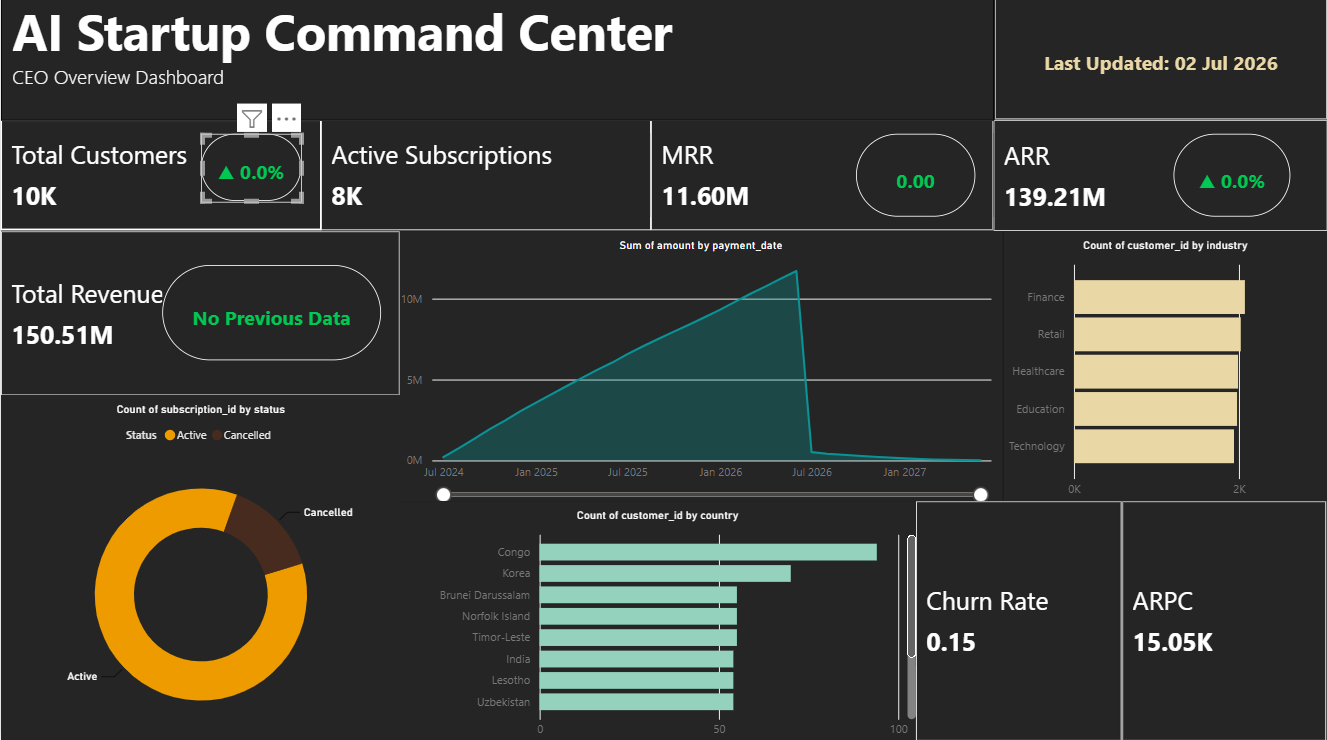

This screenshot's page, from the dashboard's own definition file:
{"tool":"powerbi","page":{"name":"Page 1","canvas":[1280,720],"ordinal":0},"visuals":[{"type":"cardVisual","fields":{"Data":["ai_startup_command_center customers.Total Customers"]},"box":[0,120.9,309.3,106.7],"z":0},{"type":"cardVisual","fields":{"Data":["ai_startup_command_center campaign_performance.Active Subscriptions"]},"box":[309.3,120.9,318.2,106.7],"z":1000},{"type":"cardVisual","fields":{"Data":["ai_startup_command_center campaign_performance.MRR"]},"box":[627.6,120.9,330.7,106.7],"z":2000},{"type":"cardVisual","fields":{"Data":["ai_startup_command_center campaign_performance.ARR"]},"box":[958.2,120.9,307.6,106.7],"z":3000},{"type":"cardVisual","fields":{"Data":["ai_startup_command_center campaign_performance.Total Revenue"]},"box":[0,227.6,385.8,158.2],"z":4000},{"type":"lineChart","fields":{"Category":["ai_startup_command_center revenue.payment_date.Variation.Date Hierarchy.Year"],"Y":["Sum(ai_startup_command_center revenue.amount)"]},"box":[385.4,228.2,581.6,260.2],"z":5000},{"type":"donutChart","fields":{"Category":["ai_startup_command_center subscriptions.status"],"Y":["CountNonNull(ai_startup_command_center subscriptions.subscription_id)"]},"box":[0,385.8,385.8,334.2],"z":6000},{"type":"barChart","fields":{"Category":["ai_startup_command_center customers.country"],"Y":["CountNonNull(ai_startup_command_center customers.customer_id)"]},"box":[385.4,488.3,498.1,232.3],"z":7000},{"type":"barChart","fields":{"Category":["ai_startup_command_center customers.industry"],"Y":["CountNonNull(ai_startup_command_center customers.customer_id)"]},"box":[967,228.2,292.2,260.2],"z":8000},{"type":"cardVisual","fields":{"Data":["ai_startup_command_center campaign_performance.Churn Rate"]},"box":[883.5,488.3,199,168.3],"z":9000},{"type":"cardVisual","fields":{"Data":["ai_startup_command_center campaign_performance.ARPC"]},"box":[1082.4,488.3,197.6,168.3],"z":10000},{"type":"textbox","box":[0,1.6,958.4,120],"z":11000},{"type":"cardVisual","fields":{"Data":["ai_startup_command_center campaign_performance.Last Refresh"]},"box":[958.4,1.6,307.2,120],"z":12000},{"type":"cardVisual","fields":{"Data":["Date.Revenue KPI"]},"box":[155.2,260.8,211.2,92.8],"z":13000},{"type":"cardVisual","fields":{"Data":["ai_startup_command_center customers.Customer KPI"]},"box":[174.4,134.4,116.8,80],"z":14000},{"type":"cardVisual","fields":{"Data":["Date.MRR Growth %"]},"box":[825.6,134.4,115.2,80],"z":15000},{"type":"cardVisual","fields":{"Data":["Date.ARR KPI"]},"box":[1131.2,134.4,113.6,80],"z":16000}]}

Visuals, with their boxes in screenshot pixels (x1, y1, x2, y2), scaled from the page's 1280x720 canvas onto the 1327x740 screenshot:
cardVisual - ai_startup_command_center customers.Total Customers: <bbox>0, 124, 321, 234</bbox>
cardVisual - ai_startup_command_center campaign_performance.Active Subscriptions: <bbox>321, 124, 651, 234</bbox>
cardVisual - ai_startup_command_center campaign_performance.MRR: <bbox>651, 124, 993, 234</bbox>
cardVisual - ai_startup_command_center campaign_performance.ARR: <bbox>993, 124, 1312, 234</bbox>
cardVisual - ai_startup_command_center campaign_performance.Total Revenue: <bbox>0, 234, 400, 397</bbox>
lineChart - ai_startup_command_center revenue.payment_date.Variation.Date Hierarchy.Year x Sum(ai_startup_command_center revenue.amount): <bbox>400, 235, 1003, 502</bbox>
donutChart - ai_startup_command_center subscriptions.status x CountNonNull(ai_startup_command_center subscriptions.subscription_id): <bbox>0, 397, 400, 739</bbox>
barChart - ai_startup_command_center customers.country x CountNonNull(ai_startup_command_center customers.customer_id): <bbox>400, 502, 916, 739</bbox>
barChart - ai_startup_command_center customers.industry x CountNonNull(ai_startup_command_center customers.customer_id): <bbox>1003, 235, 1305, 502</bbox>
cardVisual - ai_startup_command_center campaign_performance.Churn Rate: <bbox>916, 502, 1122, 675</bbox>
cardVisual - ai_startup_command_center campaign_performance.ARPC: <bbox>1122, 502, 1326, 675</bbox>
textbox: <bbox>0, 2, 994, 125</bbox>
cardVisual - ai_startup_command_center campaign_performance.Last Refresh: <bbox>994, 2, 1312, 125</bbox>
cardVisual - Date.Revenue KPI: <bbox>161, 268, 380, 363</bbox>
cardVisual - ai_startup_command_center customers.Customer KPI: <bbox>181, 138, 302, 220</bbox>
cardVisual - Date.MRR Growth %: <bbox>856, 138, 975, 220</bbox>
cardVisual - Date.ARR KPI: <bbox>1173, 138, 1291, 220</bbox>
